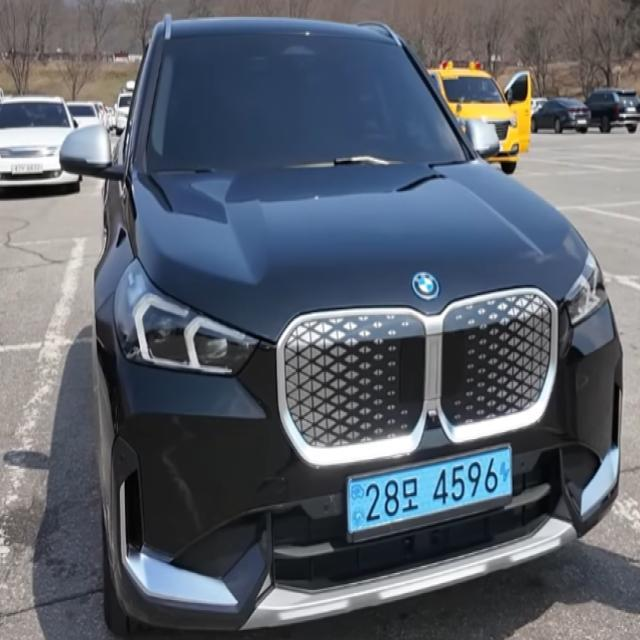car: (343, 434, 531, 558)
carev: (345, 476, 367, 542), (496, 444, 519, 505)
